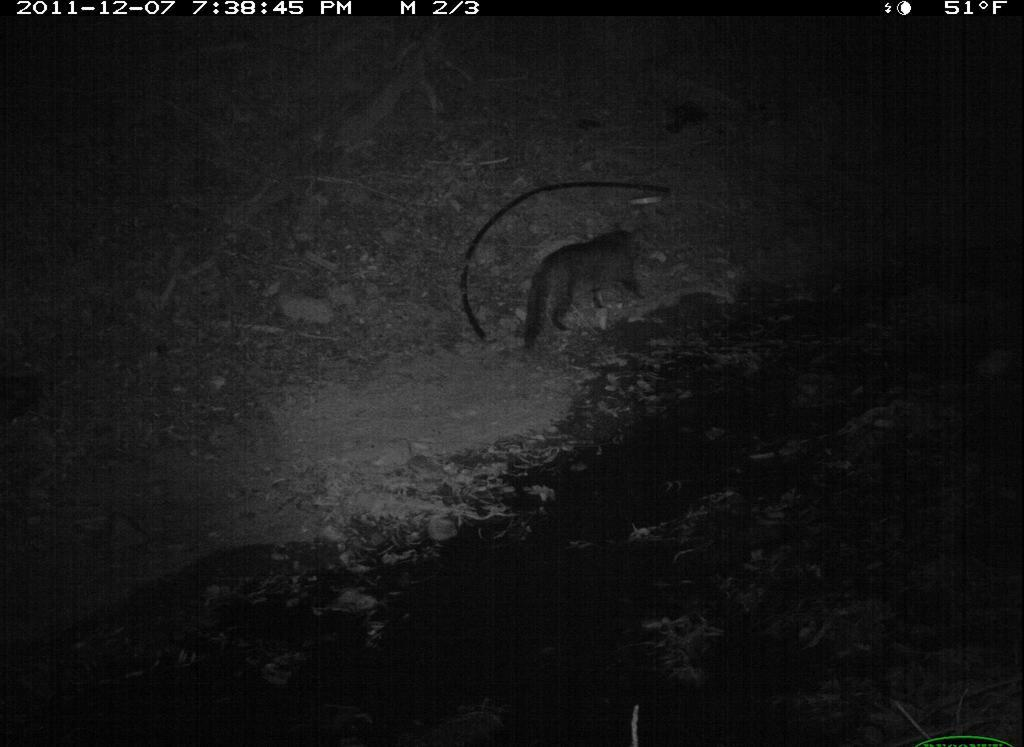cat: (515, 219, 661, 359)
